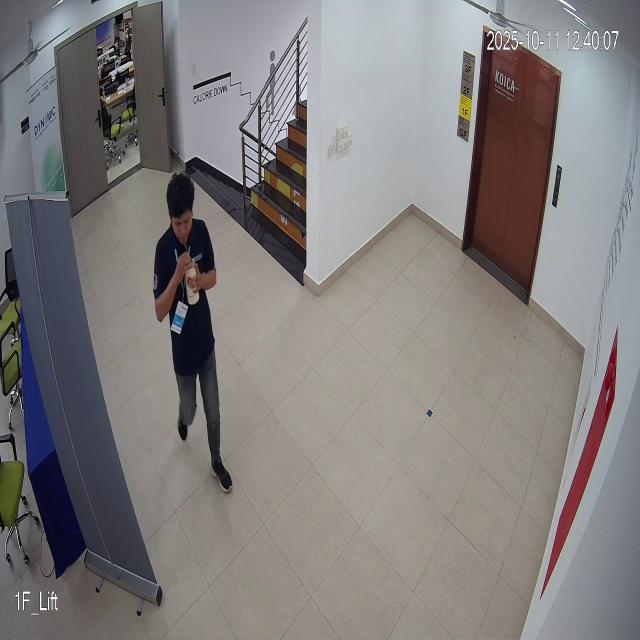face: (167, 170, 201, 244)
